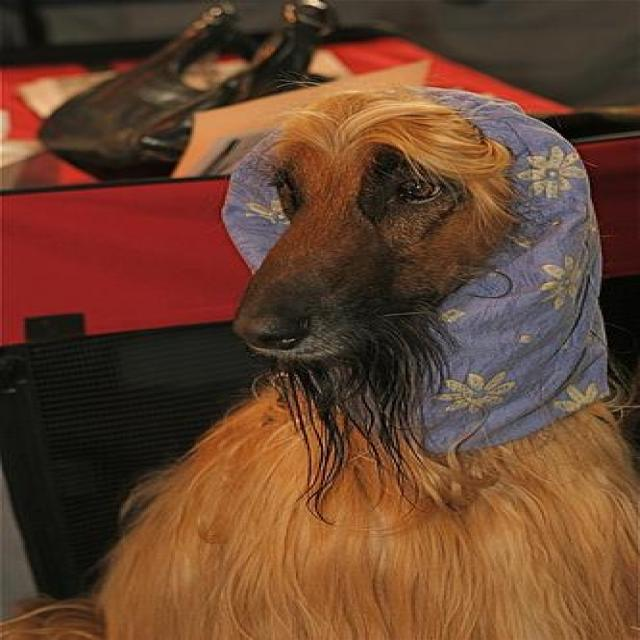afghan_hound: (92, 86, 636, 637)
